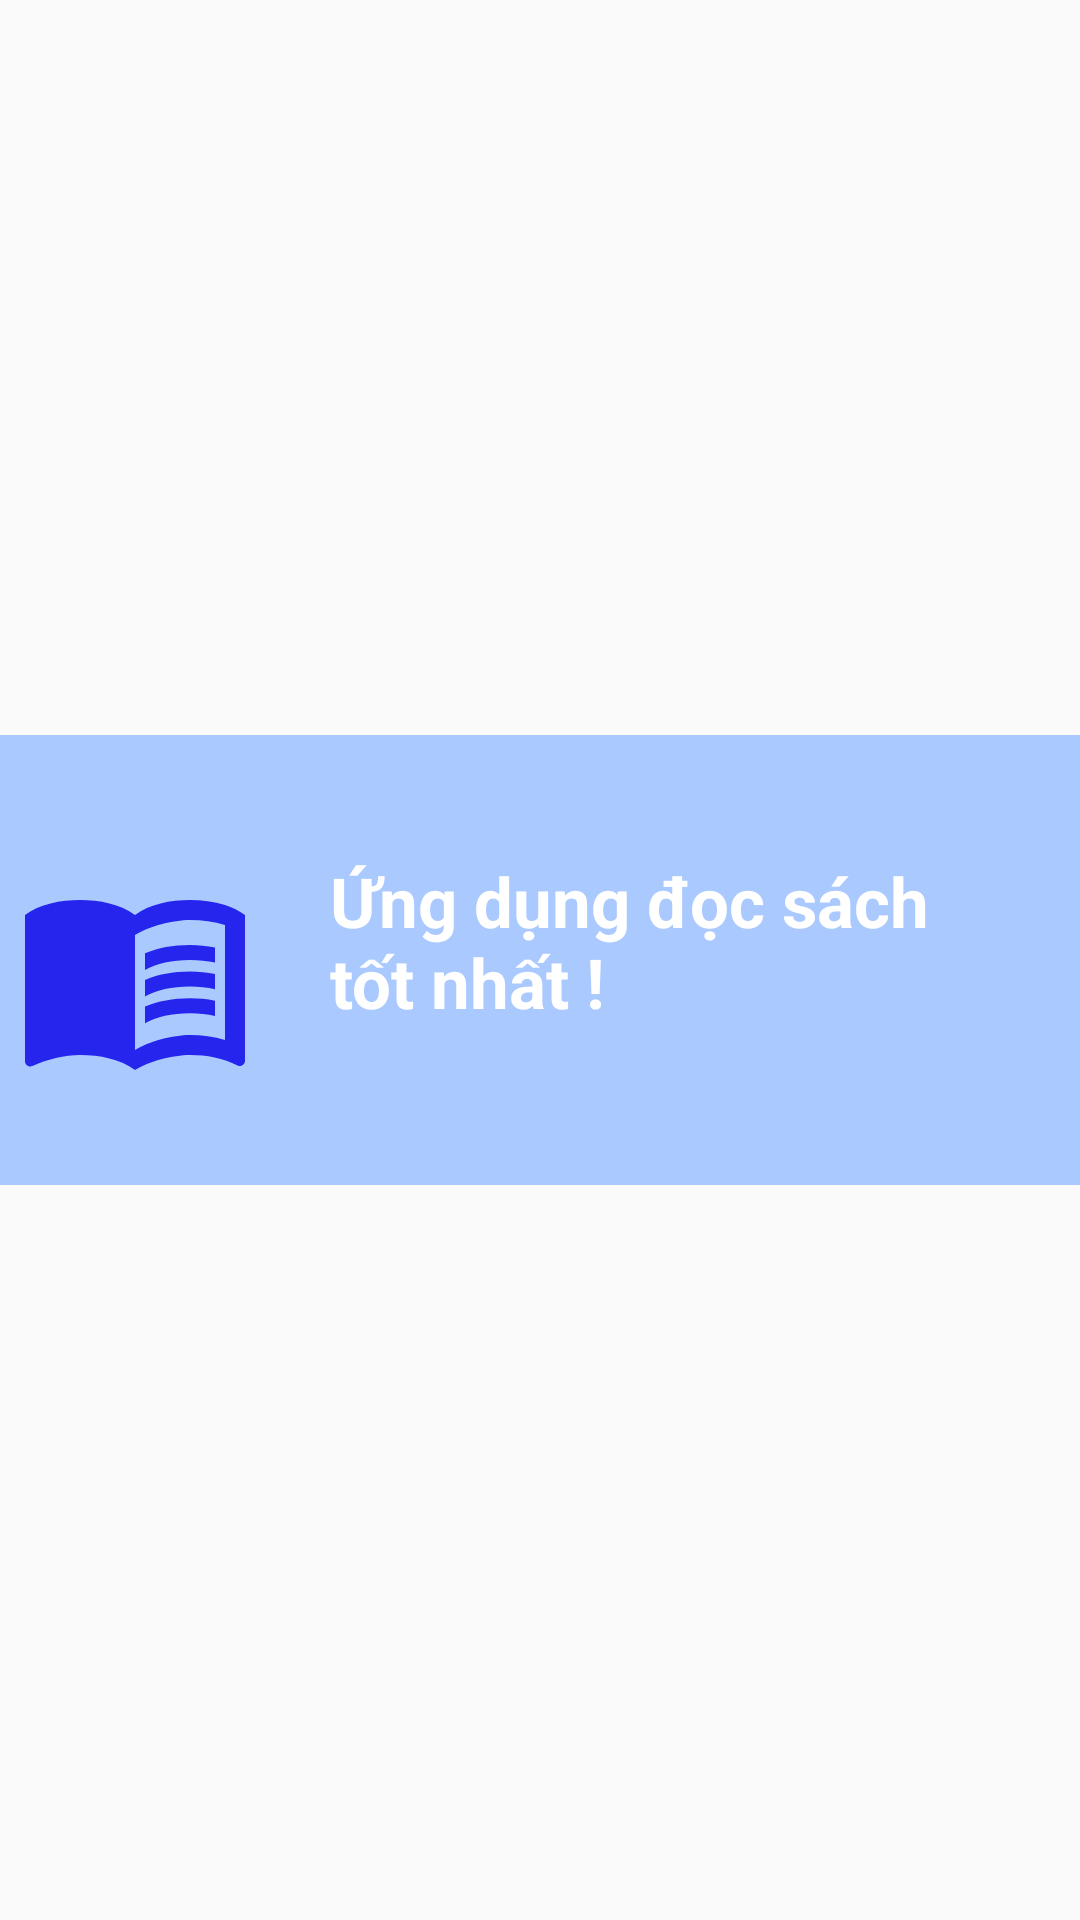

Icon bounding boxes for this 1080w x 1920h phone screenshot, format {"x1": x1, "y1": y1, "x2": x2, "y2": y2}:
book: {"x1": 25, "y1": 900, "x2": 245, "y2": 1070}
